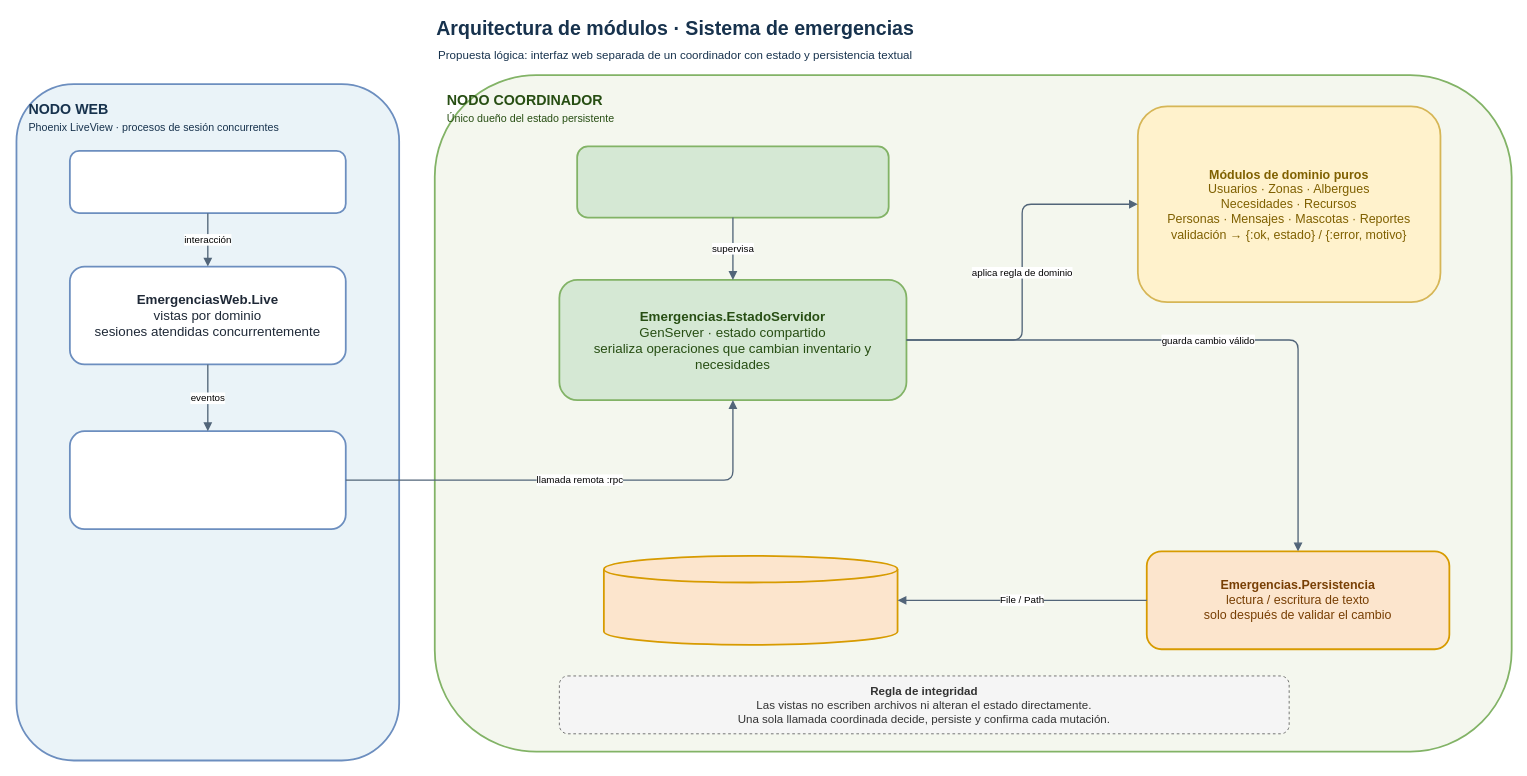
This 1527x776 diagram has some shape labels left out. The shapes that lost their labels are listed below. From the top down, each one's centre as x and y in pixels, then its label:
At (207,182): "Usuarios formularios y consultas".
At (732,181): "Emergencias.Supervisor inicia y vigila procesos de aplicación".
At (207,480): "Emergencias.API valida sesión y convierte eventos en solicitudes de dominio".
At (750,599): "archivos/ registros y movimientos esquema de texto documentado".
